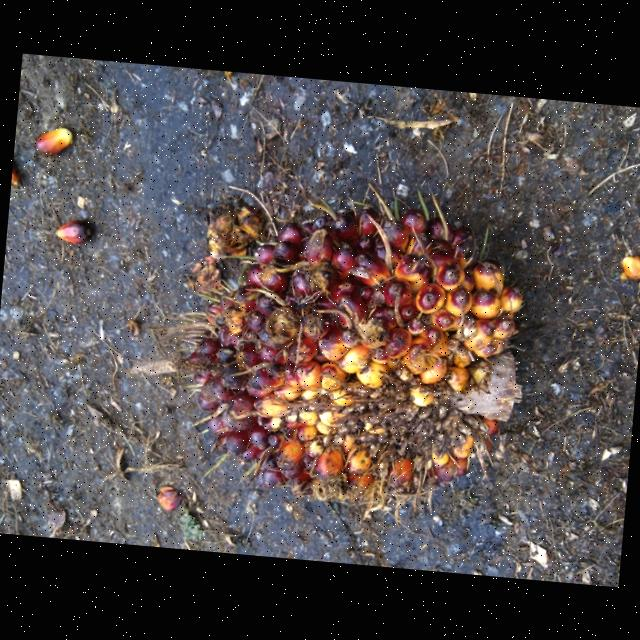Ripe: (191, 200, 529, 496)
